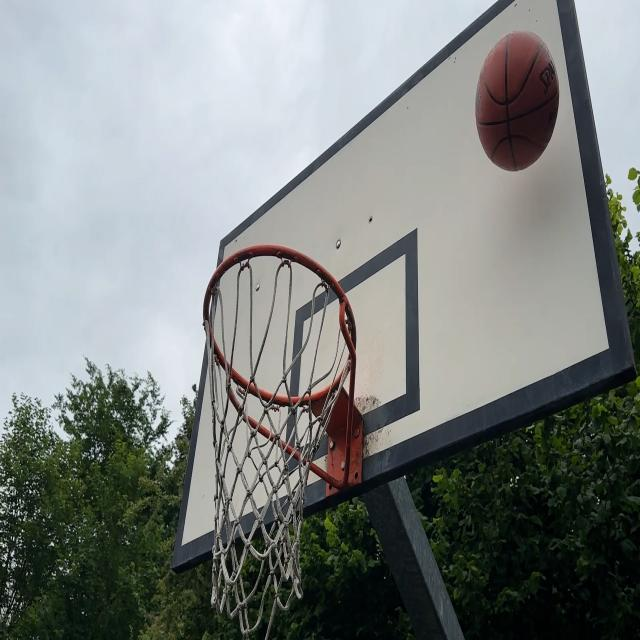Basketball: (477, 31, 558, 171)
